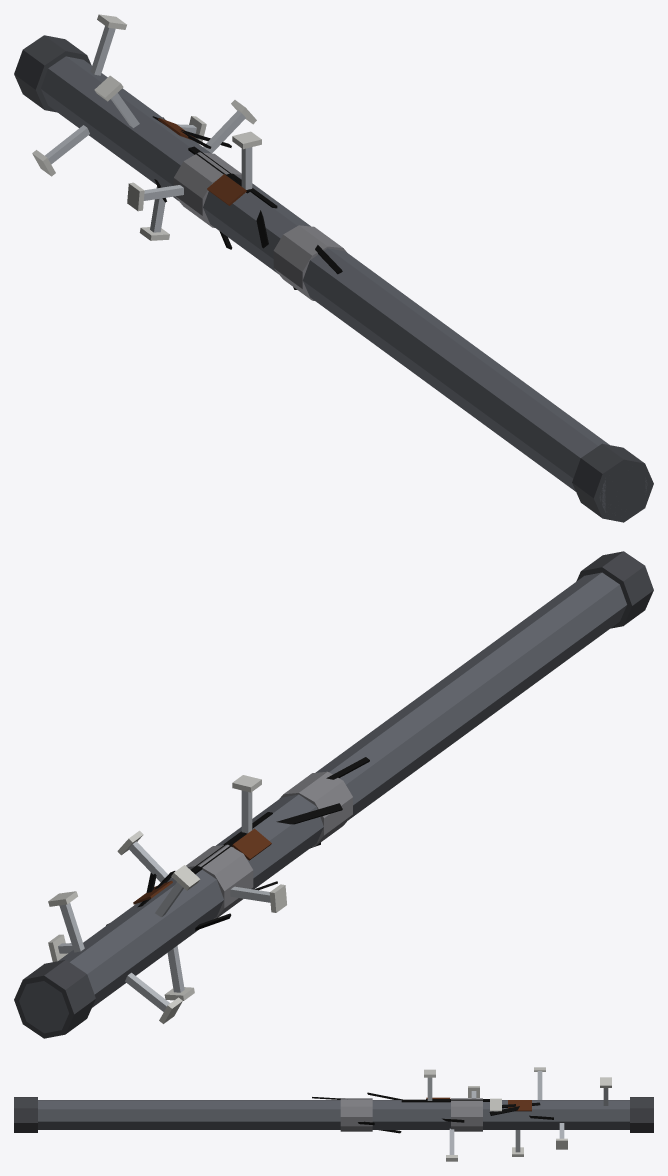
File: pipe_nails_w2.glb
3 renders of one model, top to bottom at view 1: azimuth 30°, elevation 25°; view 2: azimuth 150°, elevation 25°; view 3: azimuth 270°, elevation 25°, orthographic. The views are drawn at different scales.
Visible parts, largest first — view 1: pipe_nails_w2; view 2: pipe_nails_w2; view 3: pipe_nails_w2.
Part boxes in pixels (x1,y1,x2,y2): pipe_nails_w2: (14,14,653,522); pipe_nails_w2: (14,551,653,1038); pipe_nails_w2: (14,1067,653,1161).
Size of the model in its own units: 0.1184 by 0.1184 by 0.8.
